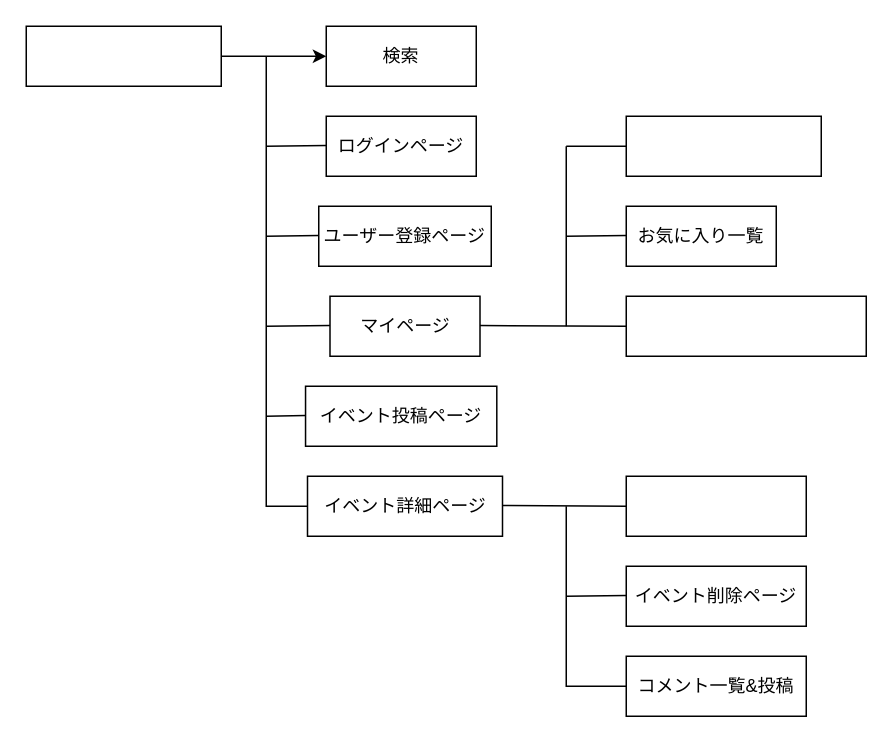
Some shapes in this 893 by 743 pixel diagram are drawn without their labels. Here are the shapes that lost their labels. From the top down, the centre of each, then its label:
the point at 123,55: イベント一覧ページ
the point at 723,145: ユーザーイベント一覧
the point at 745,325: フォロー&フォロワー一覧
the point at 715,505: イベント編集ページ
